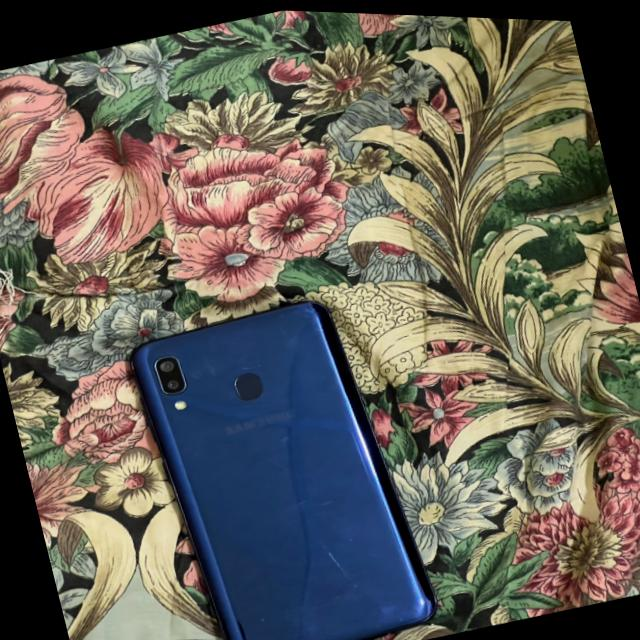Smartphone: (131, 299, 436, 640)
